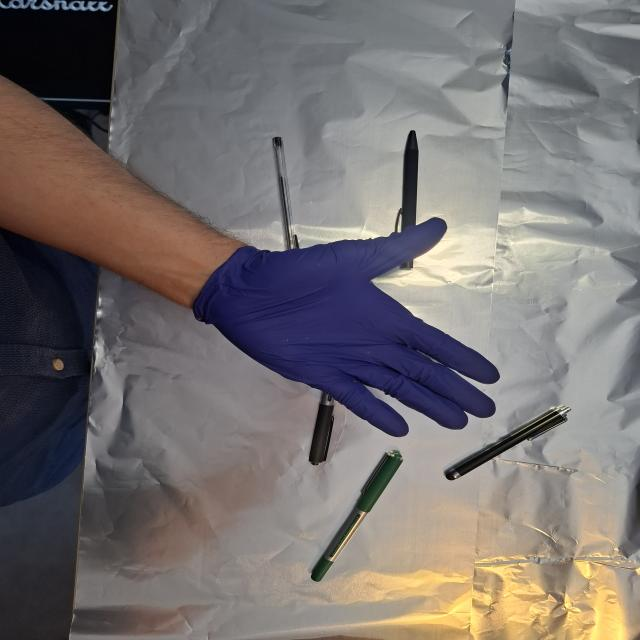glove_on: (190, 215, 502, 439)
